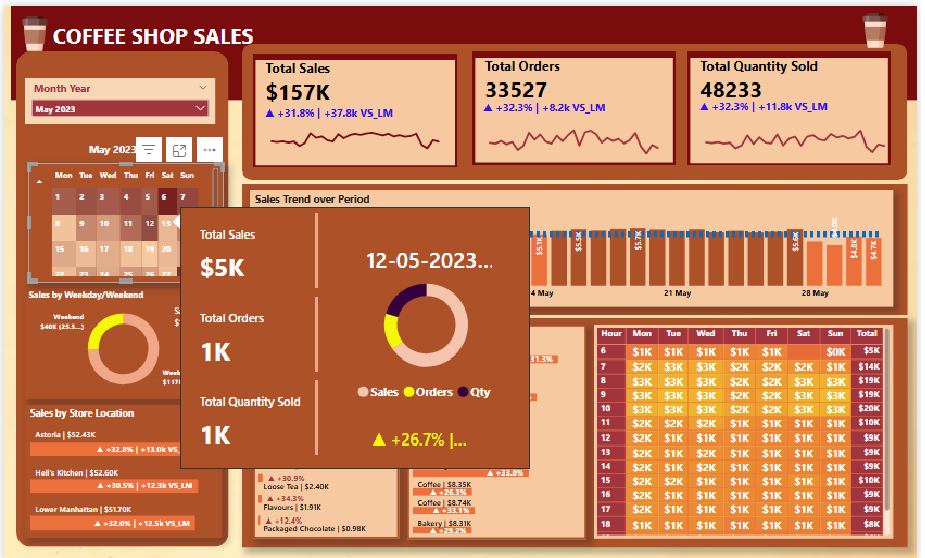

Layout of this report page (visuals, bound fields, positions):
{"tool":"powerbi","page":{"name":"Page 1","canvas":[1400,850],"ordinal":0},"visuals":[{"type":"shape","box":[9.8,0,1390.2,144.4],"z":0},{"type":"shape","box":[18.8,68.3,326,761.2],"z":1000},{"type":"shape","box":[365.3,56.3,1020.7,209.9],"z":2000},{"type":"textbox","box":[70,17,327.3,71.9],"z":3000},{"type":"cardVisual","fields":{"Data":["Transactions.Total Orders"]},"box":[713.4,63.5,322.9,185.5],"z":4000,"group":"g1"},{"type":"cardVisual","fields":{"Data":["Transactions.Total Quantity Sold"]},"box":[1042.9,63.7,322.6,186],"z":4000,"group":"g3"},{"type":"cardVisual","fields":{"Data":["Transactions.Total Sales"]},"box":[377.2,66.9,324.3,186],"z":4000,"group":"g2"},{"type":"slicer","fields":{"Values":["Date Table.Month Year"]},"box":[32,110,292,70],"z":4000},{"type":"group","id":"g1","title":"Group 2","box":[713.4,63.5,324.3,186],"z":5000},{"type":"group","id":"g2","title":"Group 1","box":[377.2,66.9,324.3,186],"z":6000},{"type":"lineChart","fields":{"Category":["Date Table.Date Hierarchy.Date"],"Y":["Transactions.Total Quantity Sold"]},"box":[1060.6,143.7,303.7,90.4],"z":6000,"group":"g3"},{"type":"lineChart","fields":{"Category":["Date Table.Date Hierarchy.Date"],"Y":["Transactions.Total Orders"]},"box":[730.7,145.9,287.6,87.4],"z":6000,"group":"g1"},{"type":"lineChart","fields":{"Category":["Date Table.Date Hierarchy.Date"],"Y":["Transactions.Total Sales"]},"box":[395.6,152.8,286.2,83.6],"z":6000,"group":"g2"},{"type":"group","id":"g3","title":"Group 2","box":[1042.9,63.7,322.6,186],"z":7000},{"type":"pivotTable","fields":{"Rows":["Date Table.Week Number"],"Columns":["Date Table.Day Name"],"Values":["Min(Date Table.Day Number)"]},"box":[35.8,240.7,300.4,182.6],"z":8000},{"type":"cardVisual","fields":{"Data":["Min(Date Table.Month Year)"]},"box":[100.7,182.6,133.1,56.3],"z":9000},{"type":"donutChart","title":"Sales by Weekday/Weekend","fields":{"Category":["Date Table.Weekday/Weekend"],"Y":["Transactions.Total Sales"]},"box":[32.4,431.8,302.1,170.7],"z":10000},{"type":"cardVisual","fields":{"Data":["Transactions.Total Sales"]},"box":[242.4,438.7,90.5,78.5],"z":11000},{"type":"shape","box":[365.3,477.9,1020.7,351.6],"z":12000},{"type":"shape","box":[365.3,273.1,1020.7,199.7],"z":13000},{"type":"clusteredBarChart","title":"Sales by Product Category","fields":{"Y":["Transactions.Total Sales","Transactions.Placeholder"],"Category":["Transactions.product_category"]},"box":[382.3,488.2,223.6,327.7],"z":14000},{"type":"columnChart","title":"Sales Trend over Period","fields":{"Category":["Transactions.transaction_date"],"Y":["Transactions.Total Sales"]},"box":[377.2,281.6,986.5,179.2],"z":15000},{"type":"clusteredBarChart","title":"Sales by Store Location","fields":{"Y":["Transactions.Placeholder","Transactions.Total Sales"],"Category":["Transactions.store_location"]},"box":[32.4,611,302.1,203.1],"z":16000},{"type":"clusteredBarChart","title":"Sales by Product Type","fields":{"Y":["Transactions.Placeholder","Transactions.Total Sales"],"Category":["Transactions.product_type"]},"box":[617.9,488.2,274.8,329.4],"z":17000},{"type":"pivotTable","fields":{"Rows":["Transactions.Hour"],"Columns":["Date Table.Day Name"],"Values":["Transactions.Total Sales"]},"box":[904.6,488.2,459.1,327.7],"z":18000},{"type":"image","box":[10,10,72.5,62.5],"z":18001},{"type":"image","box":[1300,5,72.5,62.5],"z":18002}]}

Visuals, with their boxes in screenshot pixels (x1, y1, x2, y2), scaled from the page's 1400x850 canvas onto the 925x558 screenshot:
shape: {"left": 6, "top": 0, "right": 924, "bottom": 95}
shape: {"left": 12, "top": 45, "right": 228, "bottom": 545}
shape: {"left": 241, "top": 37, "right": 916, "bottom": 175}
textbox: {"left": 46, "top": 11, "right": 263, "bottom": 58}
cardVisual - Transactions.Total Orders: {"left": 471, "top": 42, "right": 685, "bottom": 163}
cardVisual - Transactions.Total Quantity Sold: {"left": 689, "top": 42, "right": 902, "bottom": 164}
cardVisual - Transactions.Total Sales: {"left": 249, "top": 44, "right": 463, "bottom": 166}
slicer - Date Table.Month Year: {"left": 21, "top": 72, "right": 214, "bottom": 118}
"Group 2" group: {"left": 471, "top": 42, "right": 686, "bottom": 164}
"Group 1" group: {"left": 249, "top": 44, "right": 463, "bottom": 166}
lineChart - Date Table.Date Hierarchy.Date x Transactions.Total Quantity Sold: {"left": 701, "top": 94, "right": 901, "bottom": 154}
lineChart - Date Table.Date Hierarchy.Date x Transactions.Total Orders: {"left": 483, "top": 96, "right": 673, "bottom": 153}
lineChart - Date Table.Date Hierarchy.Date x Transactions.Total Sales: {"left": 261, "top": 100, "right": 450, "bottom": 155}
"Group 2" group: {"left": 689, "top": 42, "right": 902, "bottom": 164}
pivotTable - Date Table.Week Number x Date Table.Day Name: {"left": 24, "top": 158, "right": 222, "bottom": 278}
cardVisual - Min(Date Table.Month Year): {"left": 67, "top": 120, "right": 154, "bottom": 157}
"Sales by Weekday/Weekend" donutChart: {"left": 21, "top": 283, "right": 221, "bottom": 396}
cardVisual - Transactions.Total Sales: {"left": 160, "top": 288, "right": 220, "bottom": 340}
shape: {"left": 241, "top": 314, "right": 916, "bottom": 545}
shape: {"left": 241, "top": 179, "right": 916, "bottom": 310}
"Sales by Product Category" clusteredBarChart: {"left": 253, "top": 320, "right": 400, "bottom": 536}
"Sales Trend over Period" columnChart: {"left": 249, "top": 185, "right": 901, "bottom": 303}
"Sales by Store Location" clusteredBarChart: {"left": 21, "top": 401, "right": 221, "bottom": 534}
"Sales by Product Type" clusteredBarChart: {"left": 408, "top": 320, "right": 590, "bottom": 537}
pivotTable - Transactions.Hour x Date Table.Day Name: {"left": 598, "top": 320, "right": 901, "bottom": 536}
image: {"left": 7, "top": 7, "right": 55, "bottom": 48}
image: {"left": 859, "top": 3, "right": 907, "bottom": 44}
